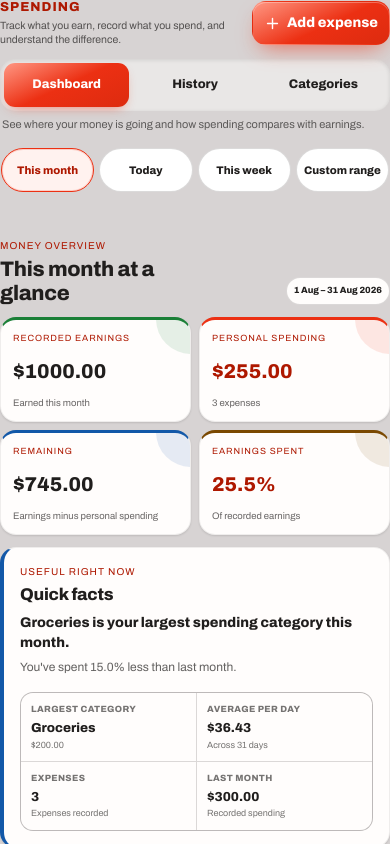
Test: SpendingScreen › prevents duplicate submissions while a save is in flight
The image size is (390, 844).
Click the button "Add expense" at (321, 23), box [252, 1, 389, 45]
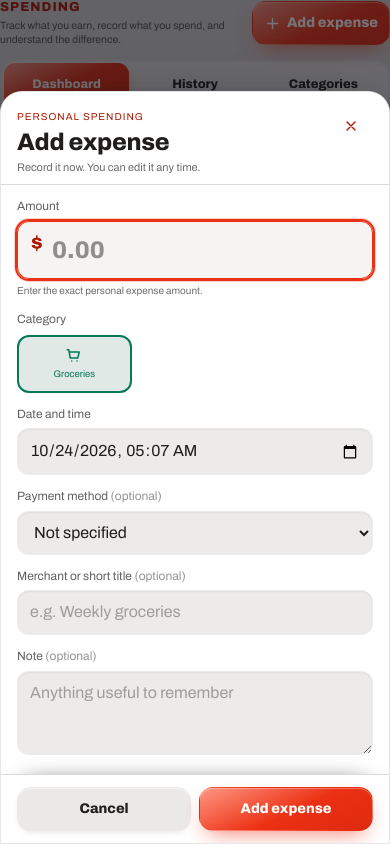
Type "8.00" into the field labelled "Amount" at (195, 250), box [17, 221, 373, 279]
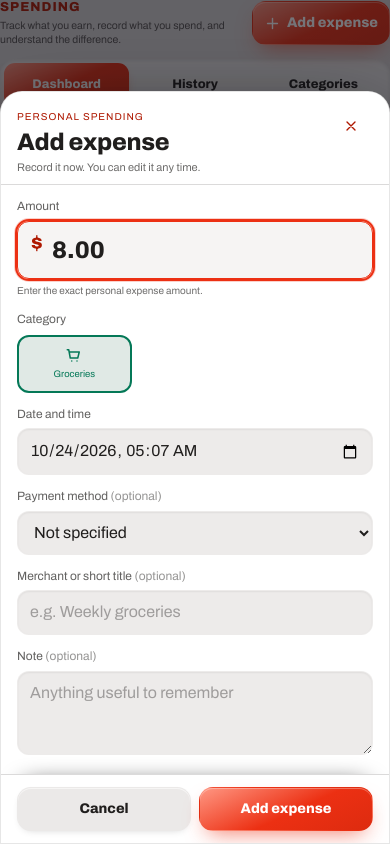
Click the button "Add expense" at (286, 809), box [199, 787, 373, 831]
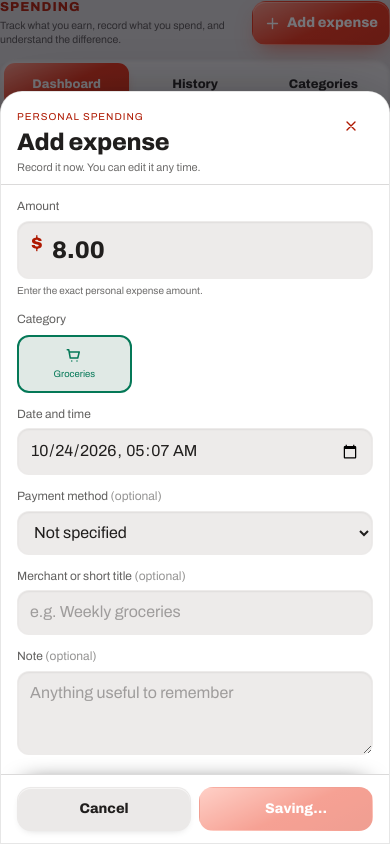
Check: the button "Saving…" is disabled
Click the button "Saving…" at (286, 809), box [199, 787, 373, 831]
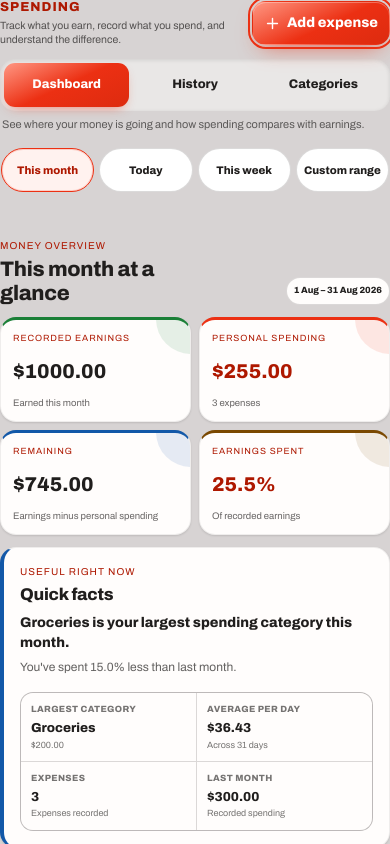
Check: the dialog is gone
